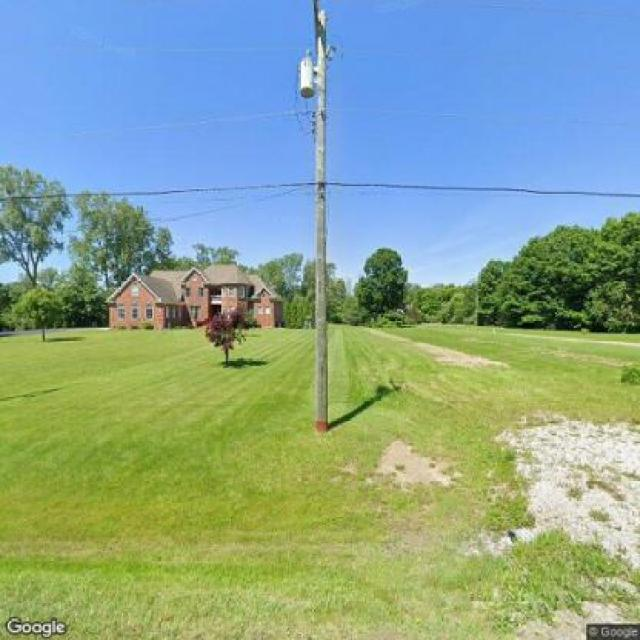pole: (276, 0, 356, 431)
